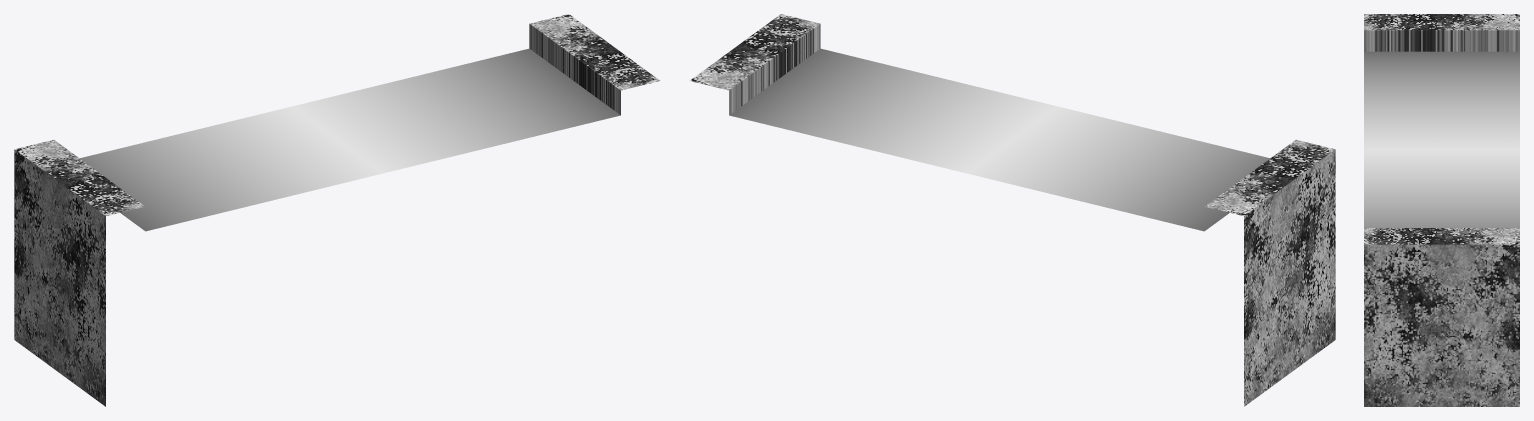
Rendered from city-track-section.glb.
3 renders of one model, left to right at view 1: azimuth 30°, elevation 25°; view 2: azimuth 150°, elevation 25°; view 3: azimuth 270°, elevation 25°, orthographic. The views are drawn at different scales.
Parts seen in each view (by area): view 1: city track section; view 2: city track section; view 3: city track section.
Boxes of the visible parts, box(x1,y1,x2,y2) form: city track section: box(14, 14, 659, 406); city track section: box(690, 14, 1335, 406); city track section: box(1364, 14, 1519, 406).
Size of the model in its own units: 7 by 2.3 by 2.
Materials: 2 (1 with a texture image).
